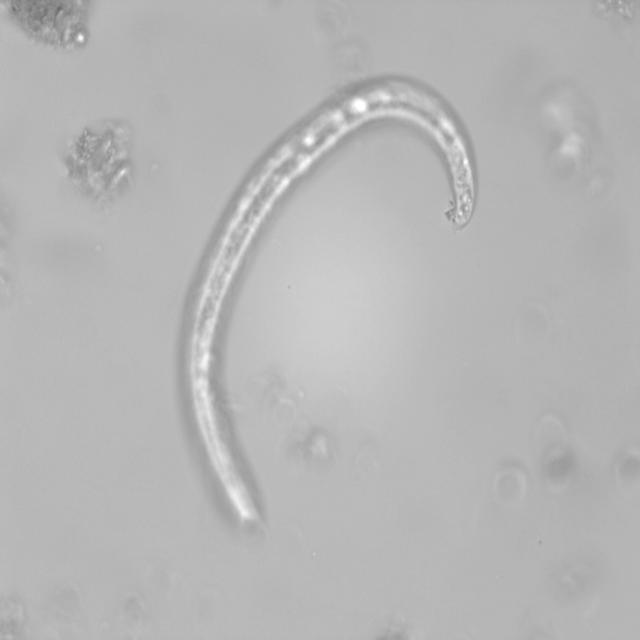Helicotylenchus: (182, 71, 490, 555)
